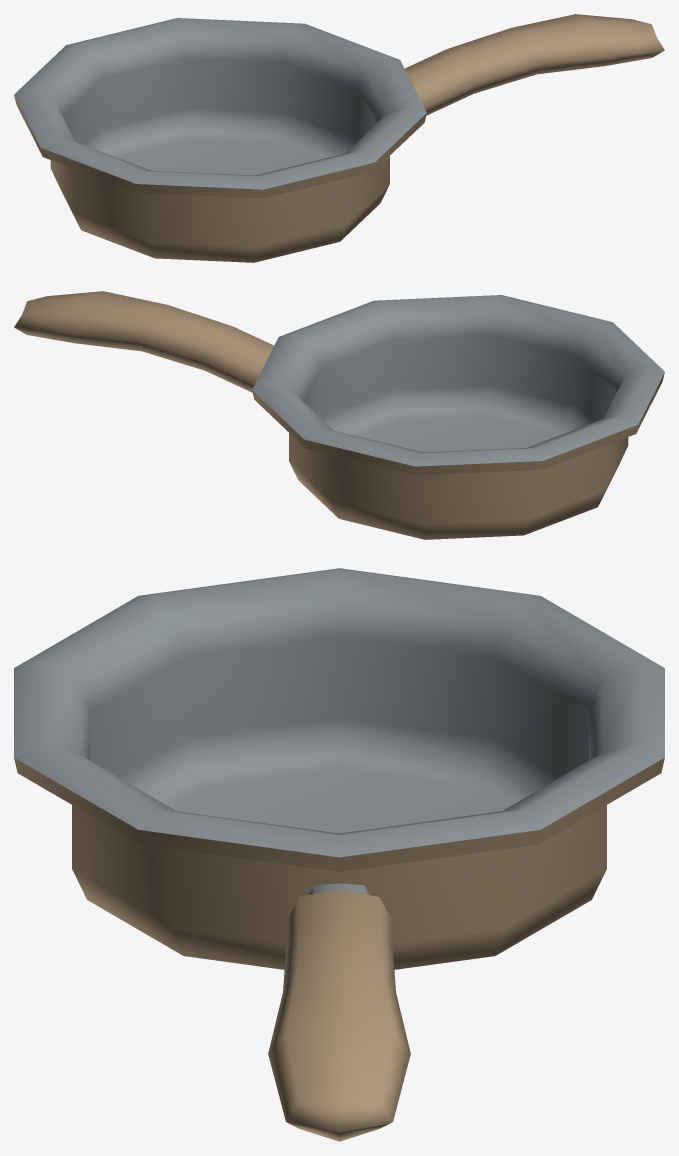
File: SM_fryingPan_2.fbx
3 renders of one model, top to bottom at view 1: azimuth 30°, elevation 25°; view 2: azimuth 150°, elevation 25°; view 3: azimuth 270°, elevation 25°, orthographic. The views are drawn at different scales.
Visible parts, largest first — view 1: SM_fryingPan_2; view 2: SM_fryingPan_2; view 3: SM_fryingPan_2.
Part boxes in pixels (left/top/right/bottom): SM_fryingPan_2: left=14, top=14, right=664, bottom=262; SM_fryingPan_2: left=14, top=291, right=664, bottom=539; SM_fryingPan_2: left=14, top=568, right=664, bottom=1141.
Bounding box in the file's own units: 76.28 × 12.63 × 42.32.
